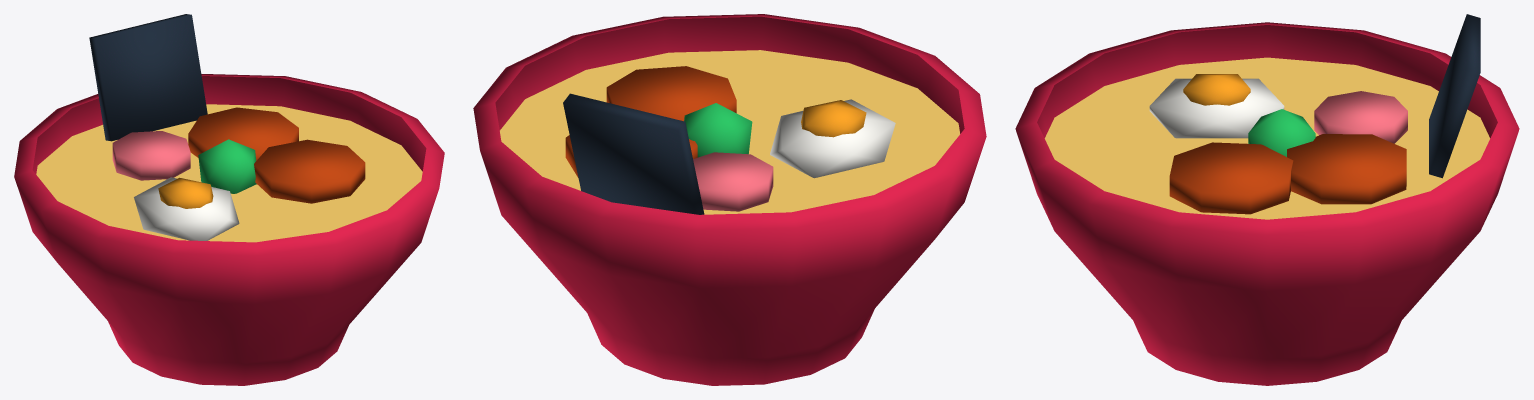
Rendered from w3_04_ramen.glb.
3 views of the same model, side by side, from view 1: azimuth 30°, elevation 25°; view 2: azimuth 150°, elevation 25°; view 3: azimuth 270°, elevation 25° (orthographic). The views are drawn at different scales.
Parts seen in each view (by area): view 1: W3_04_Ramen; view 2: W3_04_Ramen; view 3: W3_04_Ramen.
Part boxes in pixels (x1=…): W3_04_Ramen: x1=14, y1=14, x2=444, y2=385; W3_04_Ramen: x1=473, y1=14, x2=986, y2=385; W3_04_Ramen: x1=1015, y1=14, x2=1519, y2=385.
Bounding box in the file's own units: 1.4 × 0.8879 × 1.4.
Materials: 1 (1 with a texture image).
